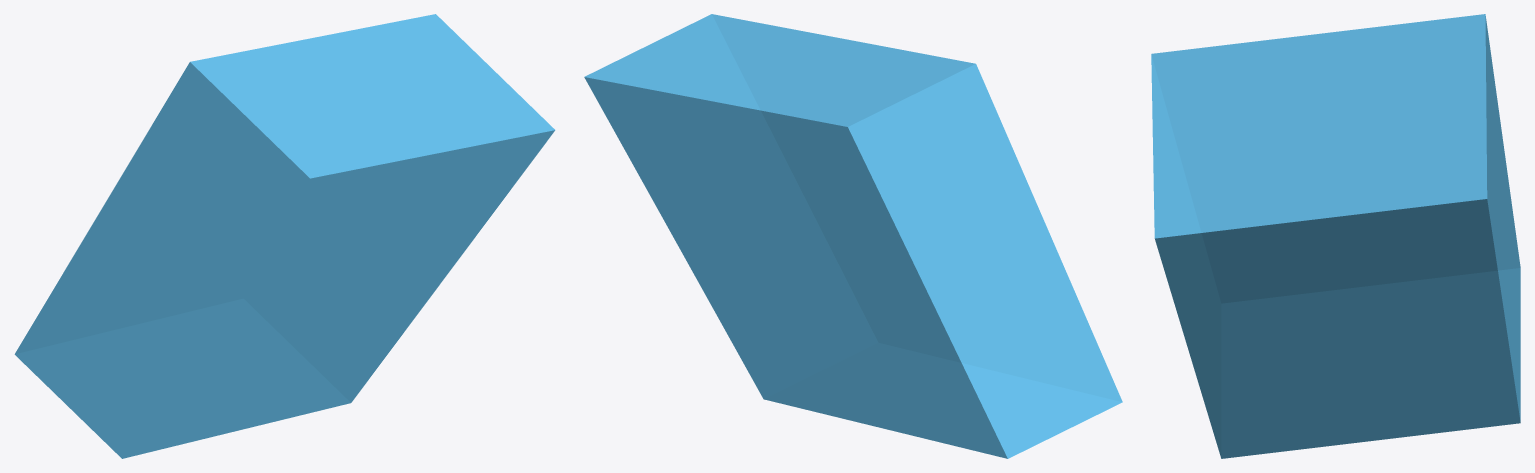
Rendered from Event_421278790_HBrechit_23.fbx.
3 views of the same model, side by side, from view 1: azimuth 30°, elevation 25°; view 2: azimuth 150°, elevation 25°; view 3: azimuth 270°, elevation 25° (orthographic). The views are drawn at different scales.
Parts seen in each view (by area): view 1: Model; view 2: Model; view 3: Model.
Boxes of the visible parts, x1,y1,x2,y2 form: Model: (14, 14, 555, 458); Model: (584, 14, 1122, 458); Model: (1151, 14, 1520, 458).
Bounding box in the file's own units: 0.8739 × 0.5872 × 0.4915.
